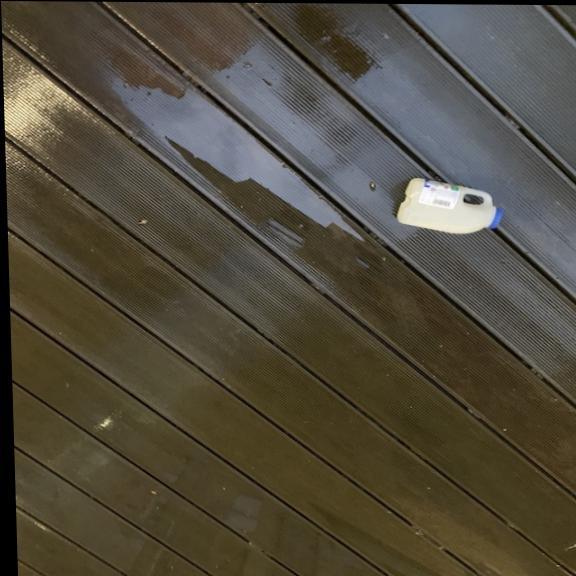Plastik: (394, 172, 507, 235)
